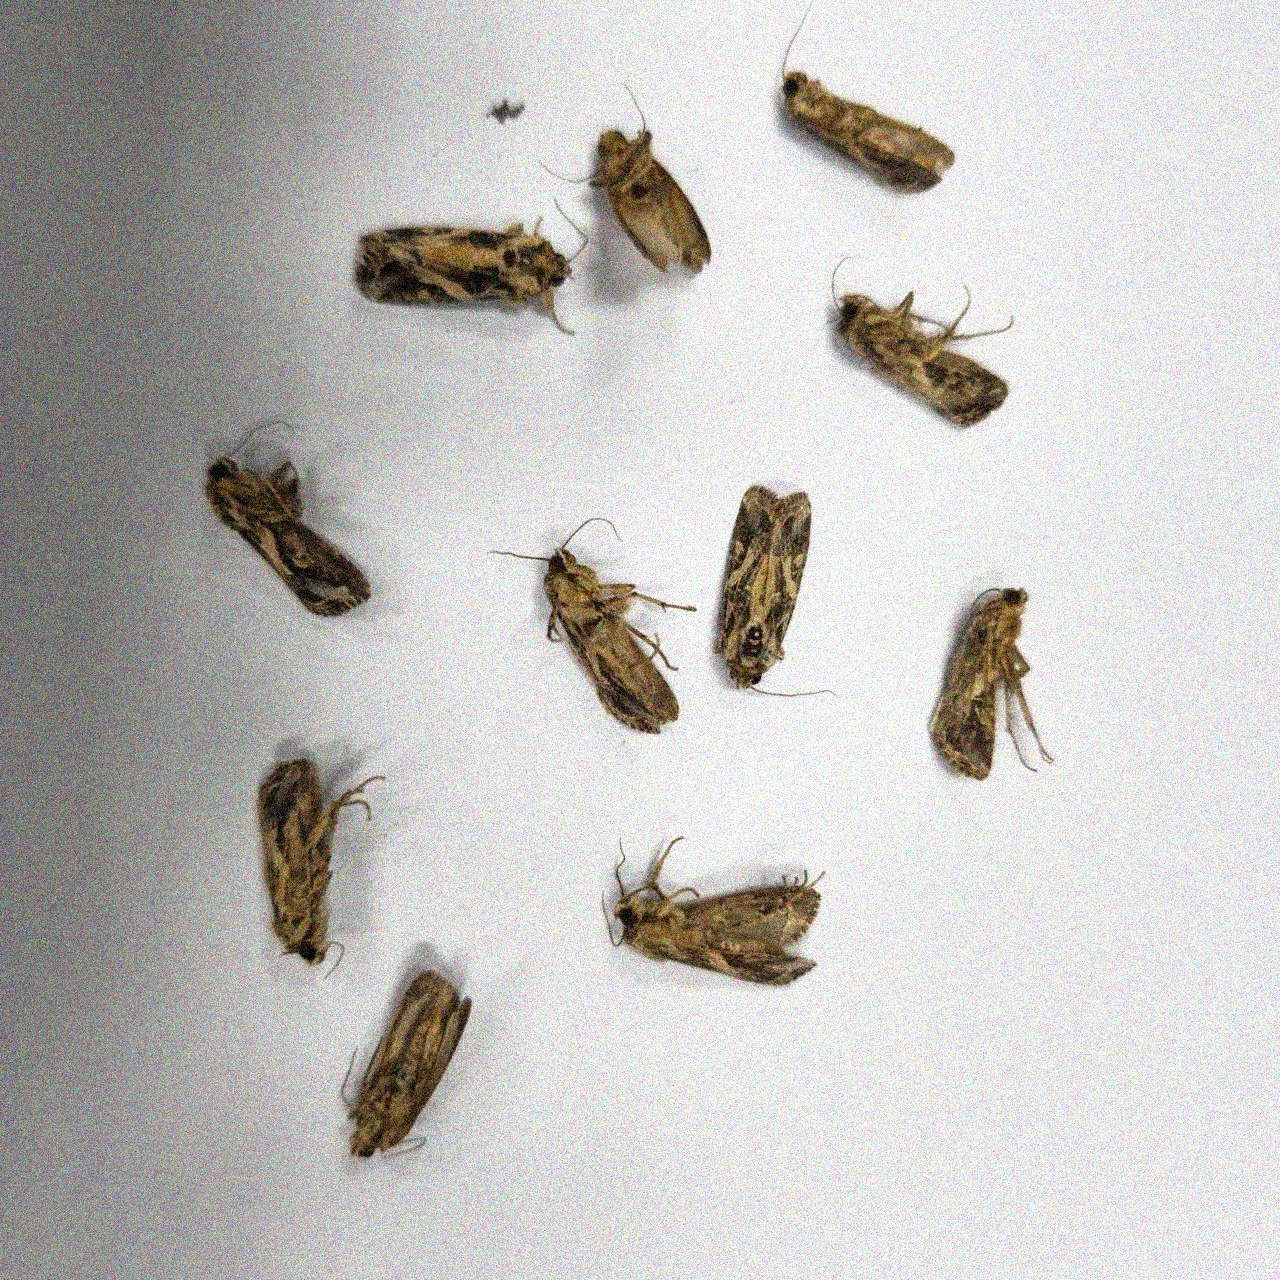Spodoptera litura: (486, 518, 697, 734), (600, 836, 826, 986), (779, 1, 954, 195), (538, 83, 712, 275), (354, 197, 588, 336), (206, 421, 373, 617), (825, 256, 1013, 427), (256, 760, 386, 981), (712, 485, 838, 696), (341, 969, 472, 1158), (927, 588, 1054, 779)
